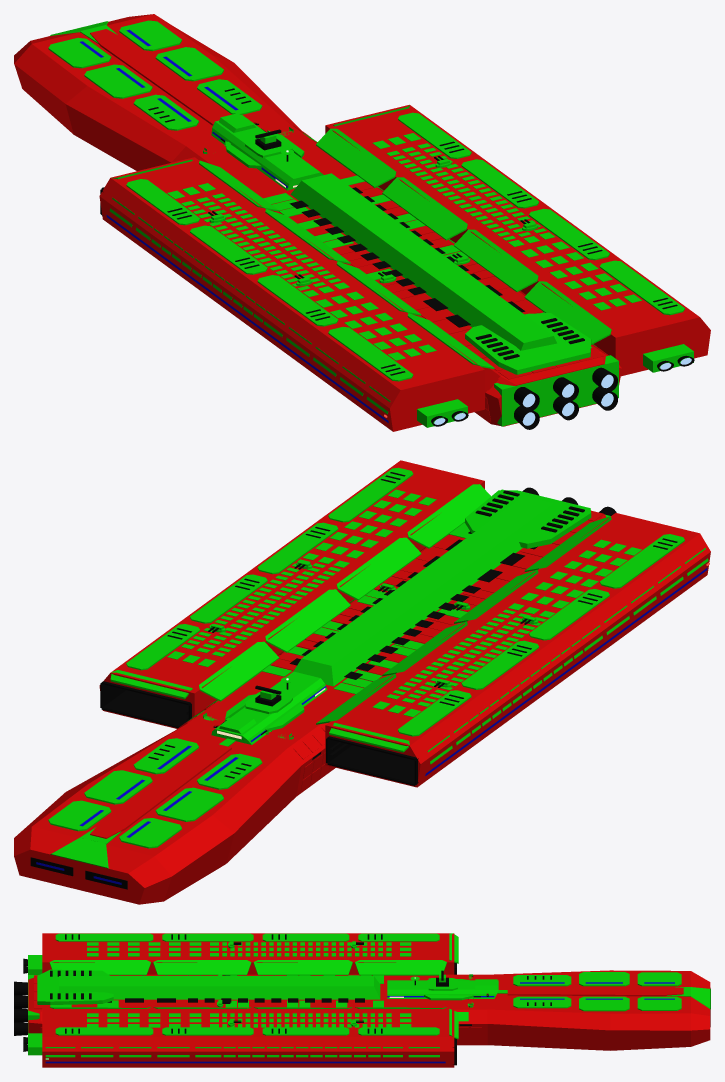
The model's file is bastion.glb.
The picture shows the model from 3 angles, top to bottom: view 1: azimuth 30°, elevation 25°; view 2: azimuth 150°, elevation 25°; view 3: azimuth 270°, elevation 25°; orthographic projection. The views are drawn at different scales.
Parts seen in each view (by area): view 1: exterior, bastion:refit_armor; view 2: exterior, bastion:refit_armor, room:bay-p, room:bay-s; view 3: exterior, bastion:refit_armor.
Part boxes in pixels (box(x1,y1,x2,y2)): exterior: box(14, 14, 710, 431); bastion:refit_armor: box(48, 20, 684, 381); exterior: box(14, 460, 710, 904); bastion:refit_armor: box(30, 467, 684, 889); room:bay-p: box(329, 740, 414, 782); room:bay-s: box(103, 685, 188, 725); exterior: box(14, 933, 710, 1067); bastion:refit_armor: box(37, 933, 710, 1065).
Size of the model in its own units: 476 by 106 by 1251.
